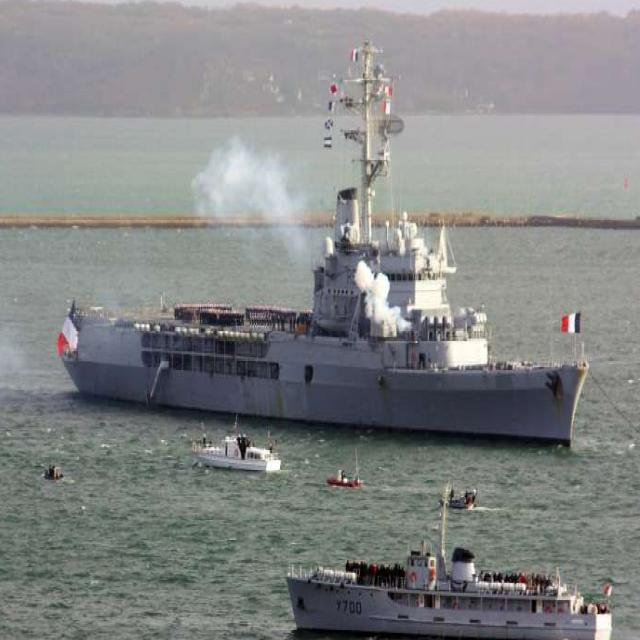Portanaves: (52, 30, 591, 453)
